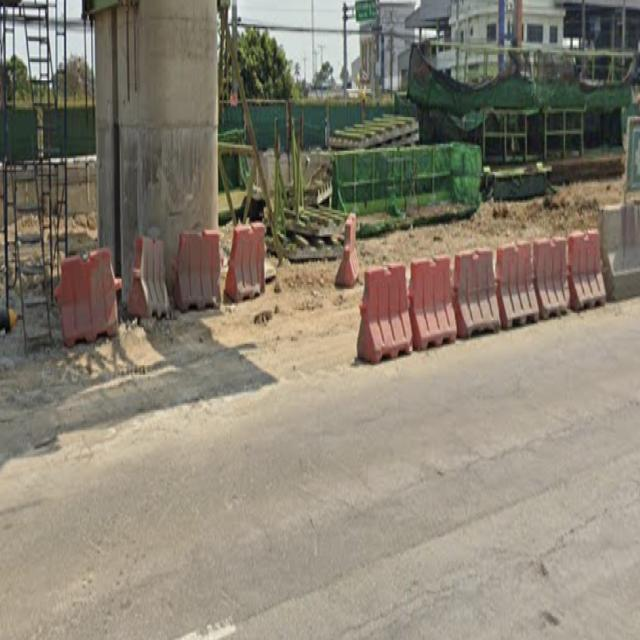fallen_object: (319, 227, 416, 373), (479, 225, 577, 324), (49, 227, 125, 353), (213, 199, 285, 327), (392, 242, 462, 355), (556, 217, 630, 321), (449, 239, 506, 348), (167, 230, 230, 324), (125, 229, 173, 329), (316, 210, 369, 281)
